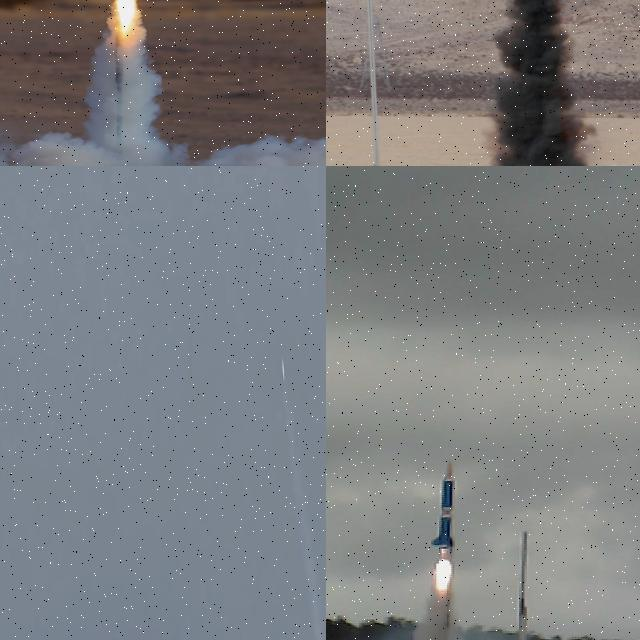Rocket: (430, 460, 458, 549), (281, 358, 285, 380)
